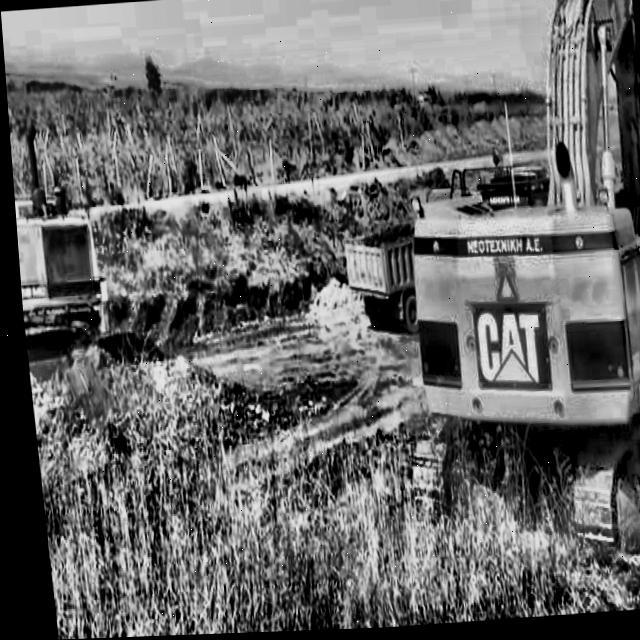dump_truck: (335, 224, 414, 344)
excavator: (356, 0, 640, 575)
